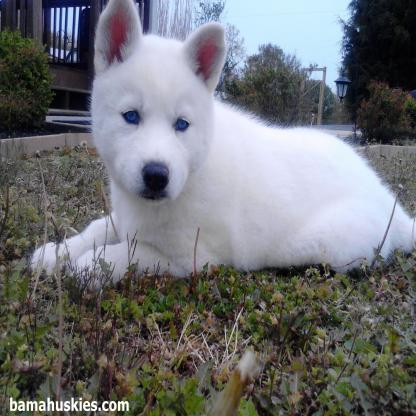dog: (28, 4, 416, 298)
